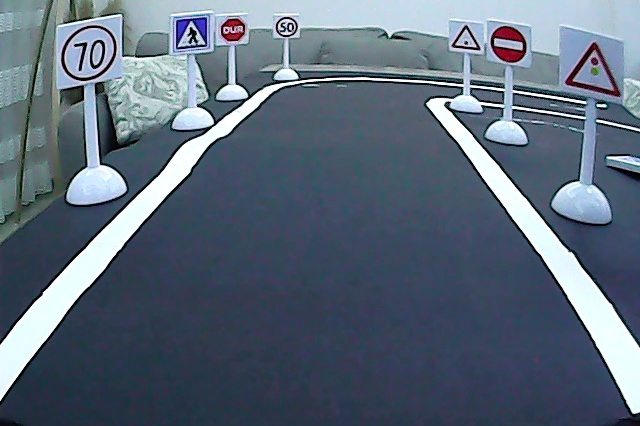do not enter: (489, 23, 530, 65)
green light: (450, 22, 483, 56)
pedestrian crossing: (172, 13, 212, 53)
red light: (562, 36, 623, 102)
speed limit 50: (274, 15, 300, 38)
speed limit 70: (60, 22, 120, 84)
stop sign: (220, 15, 248, 43)
